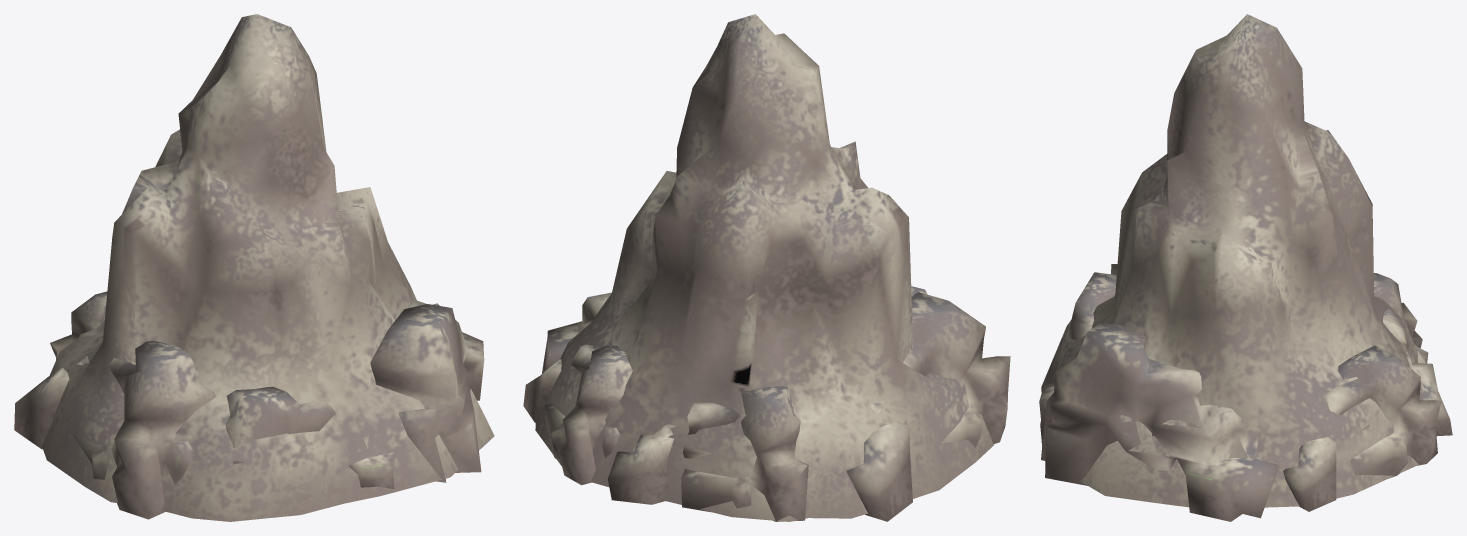
File: Mountain-1.fbx
The picture shows the model from 3 angles, left to right: view 1: azimuth 30°, elevation 25°; view 2: azimuth 150°, elevation 25°; view 3: azimuth 270°, elevation 25°; orthographic projection. The views are drawn at different scales.
Parts seen in each view (by area): view 1: Mountain-1; view 2: Mountain-1; view 3: Mountain-1.
Part boxes in pixels (<box>): Mountain-1: <box>14,14,494,521</box>; Mountain-1: <box>523,14,1010,521</box>; Mountain-1: <box>1039,14,1452,521</box>.
Bounding box in the file's own units: 17.86 × 17.11 × 15.79.
1 material, 1 textured.
